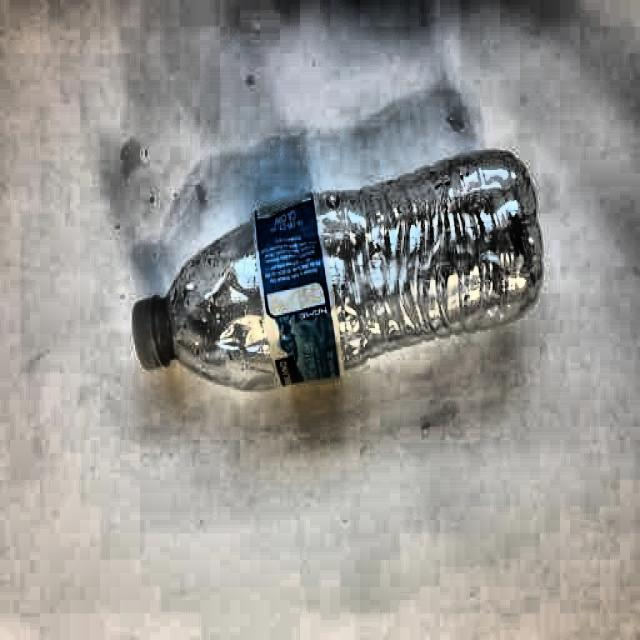plastic: (127, 148, 541, 382)
